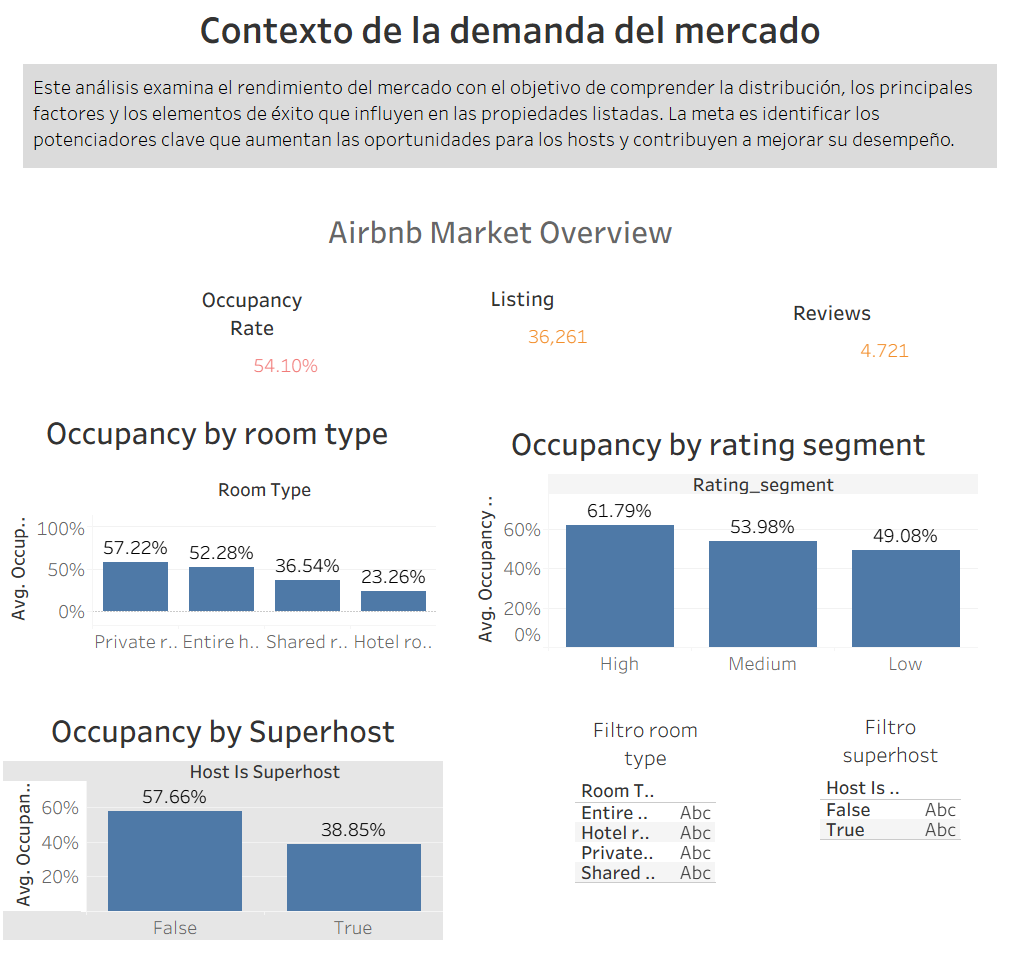

What the dashboard file says about the page in this screenshot:
{"tool":"tableau","page":{"name":"Overview Dashboard","canvas":[1000,1000],"units":"permille","ordinal":1},"visuals":[{"type":"text","box":[276.8,26.8,430.2,55]},{"type":"worksheet","title":"KPI listing","mark":"Automatic","box":[448.9,119.3,124.7,104.6]},{"type":"worksheet","title":"KPI occupancy","mark":"Automatic","box":[201.4,120.6,127.2,131.4]},{"type":"worksheet","title":"KPI review","mark":"Automatic","box":[719.5,136.7,147.1,99.2]},{"type":"worksheet","title":"Occupancy by room","mark":"Bar","rows":["occupancy_rate"],"cols":["room_type"],"box":[34.9,282.8,397.8,332.4]},{"type":"worksheet","title":"Occupancy by rating","mark":"Automatic","rows":["occupancy_rate"],"cols":["Calculation_0794174624243712"],"box":[459.5,296.2,466.3,332.4]},{"type":"worksheet","title":"Occupancy by superhost","mark":"Automatic","rows":["occupancy_rate"],"cols":["host_is_superhost"],"box":[39.3,667.6,400.2,302.9]},{"type":"worksheet","title":"Filtro superhost","mark":"Automatic","rows":["host_is_superhost"],"box":[781.8,671.6,137.2,242.6]},{"type":"worksheet","title":"Filtro Room","mark":"Automatic","rows":["room_type"],"box":[559.2,674.3,139.7,240]}]}

Visuals, with their boxes on the dashboard's canvas, which has no fixed pixel size, in thousandths of its width and height (x1, y1, x2, y2). These are canvas units, not pixel positions in the 1014x969 screenshot, which may show the page scaled, cropped or inside an application window:
text: left=277, top=27, right=707, bottom=82
"KPI listing" worksheet: left=449, top=119, right=574, bottom=224
"KPI occupancy" worksheet: left=201, top=121, right=329, bottom=252
"KPI review" worksheet: left=720, top=137, right=867, bottom=236
"Occupancy by room" worksheet (Bar marks): left=35, top=283, right=433, bottom=615
"Occupancy by rating" worksheet: left=460, top=296, right=926, bottom=629
"Occupancy by superhost" worksheet: left=39, top=668, right=440, bottom=970
"Filtro superhost" worksheet: left=782, top=672, right=919, bottom=914
"Filtro Room" worksheet: left=559, top=674, right=699, bottom=914
